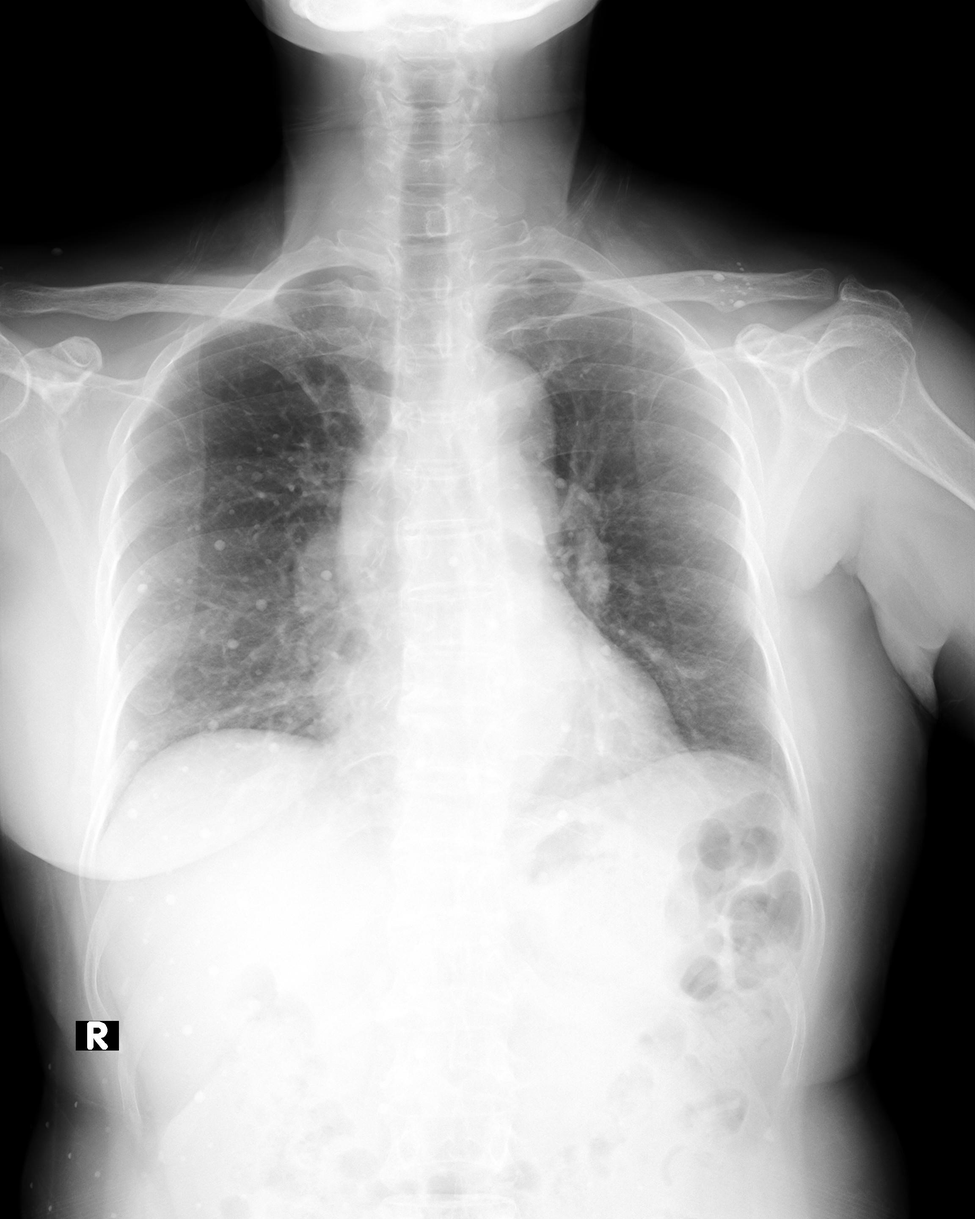Aortic enlargement: (344, 354, 551, 532)
Cardiomegaly: (306, 654, 687, 756)
